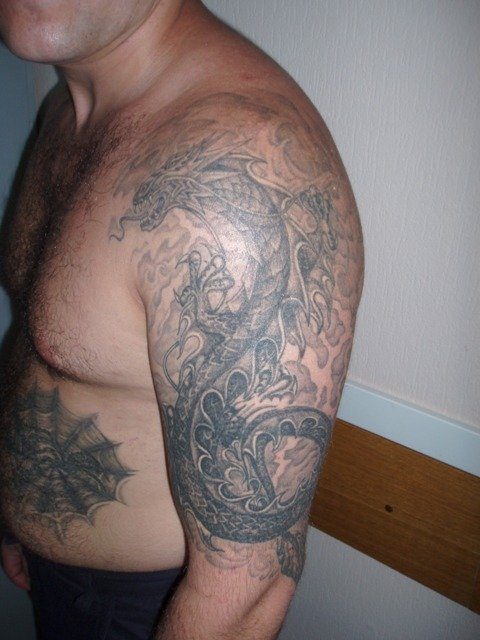tatu6_drakon: (104, 118, 364, 588)
